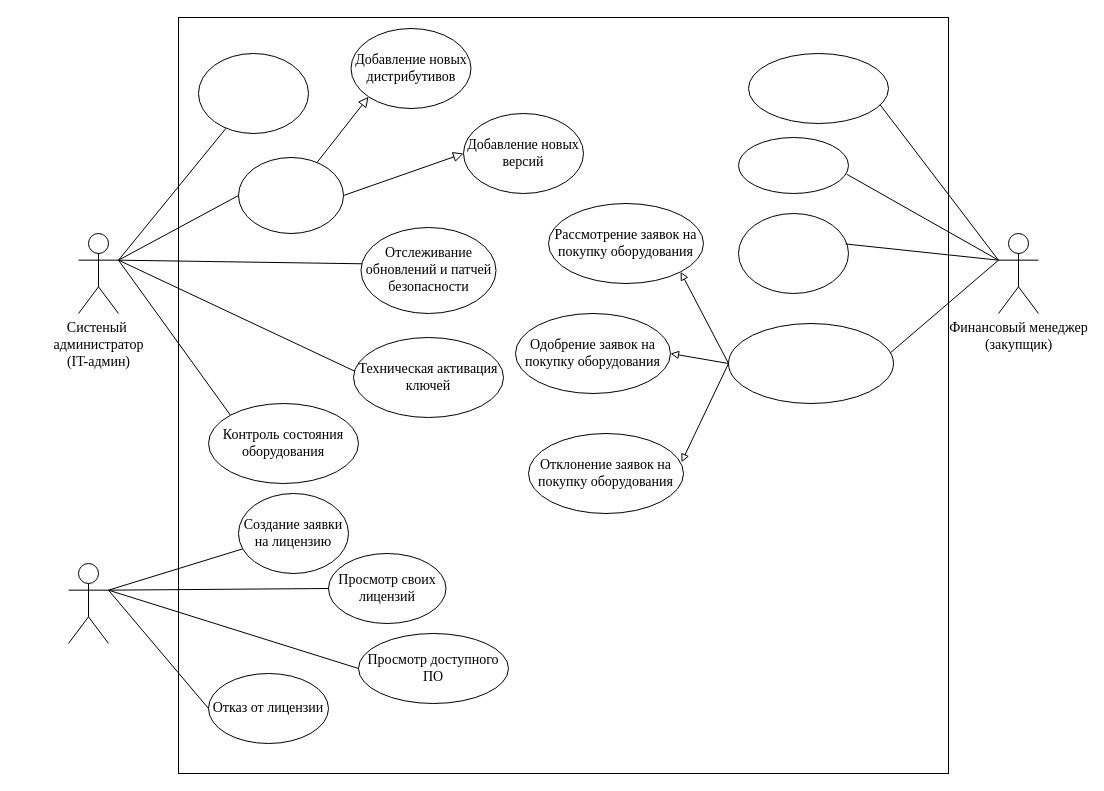
This 1104x791 diagram has some shape labels left out. Each missing label, with the centre of its shape:
Анализ окупаемости: pixel 793 165
Конечный пользователь (сотрудник компании): pixel 88 603
Планирование бюджета: pixel 793 253
Проведение инвентаризации ПО: pixel 253 93
Регистрация купленных лицензий: pixel 818 88
Управление заявками: pixel 811 363
Управление репозиторием: pixel 291 195
